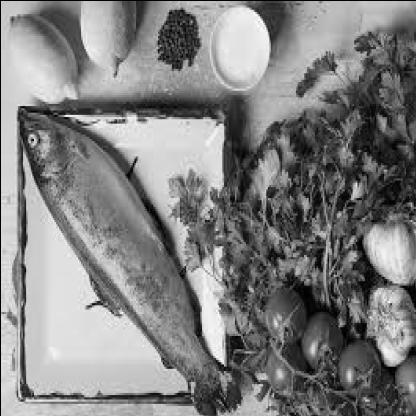fish: (21, 111, 241, 415)
